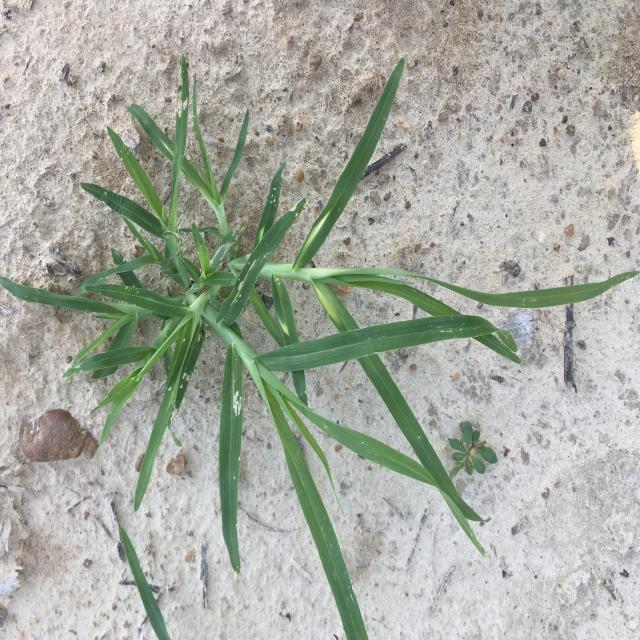Carpetweed: (448, 420, 498, 477)
Goosegrass: (1, 57, 639, 639)
